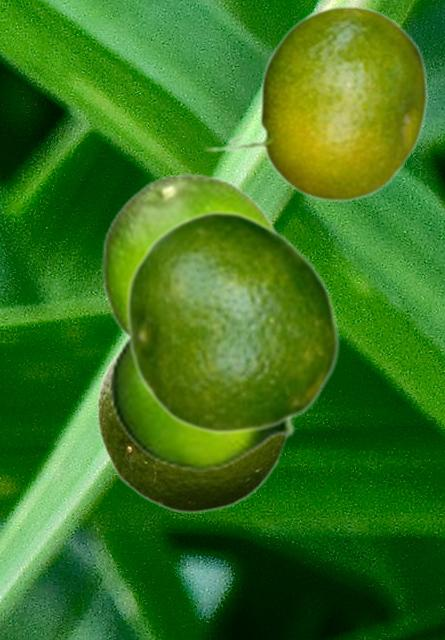calamansi: (124, 209, 340, 434), (203, 4, 427, 201), (96, 346, 288, 513), (101, 172, 282, 338), (108, 332, 301, 471)
